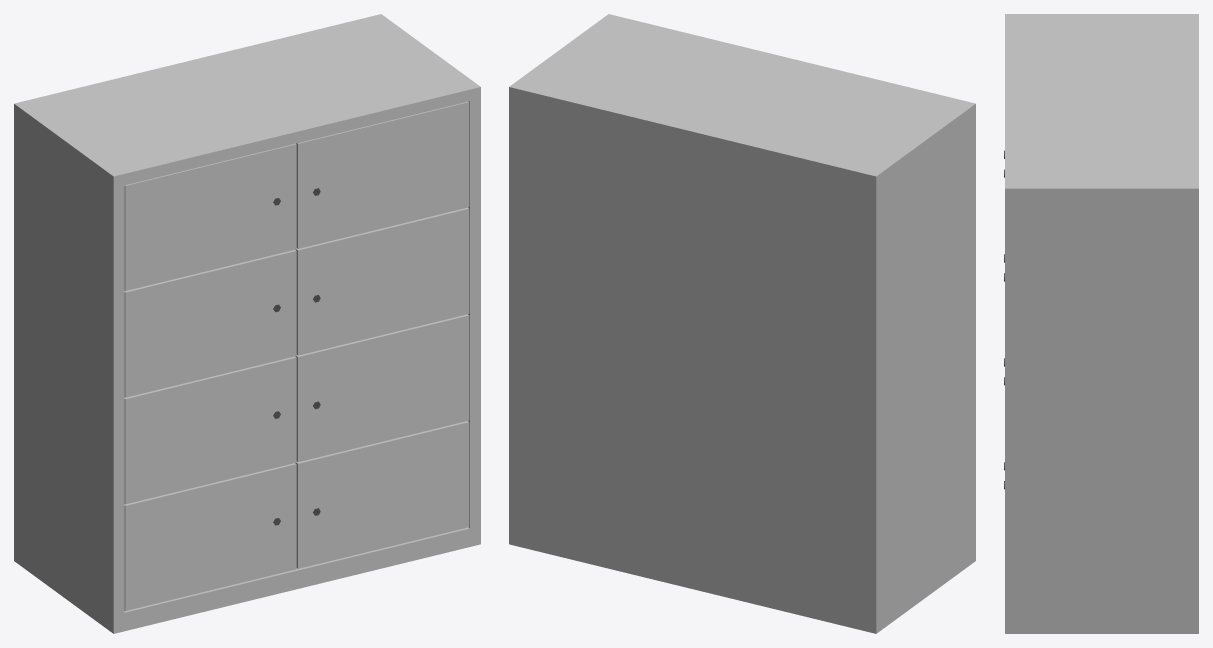
The model's file is Locker.fbx.
3 renders of one model, left to right at view 1: azimuth 30°, elevation 25°; view 2: azimuth 150°, elevation 25°; view 3: azimuth 270°, elevation 25°, orthographic. The views are drawn at different scales.
Parts seen in each view (by area): view 1: Locker; view 2: Locker; view 3: Locker.
Part boxes in pixels (x1=…): Locker: x1=14, y1=14, x2=480, y2=633; Locker: x1=509, y1=14, x2=975, y2=633; Locker: x1=1004, y1=14, x2=1198, y2=633.
Size of the model in its own units: 100 by 119 by 47.2.
